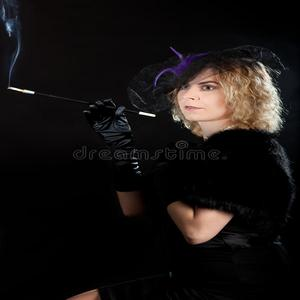cigarette: (7, 83, 40, 98)
